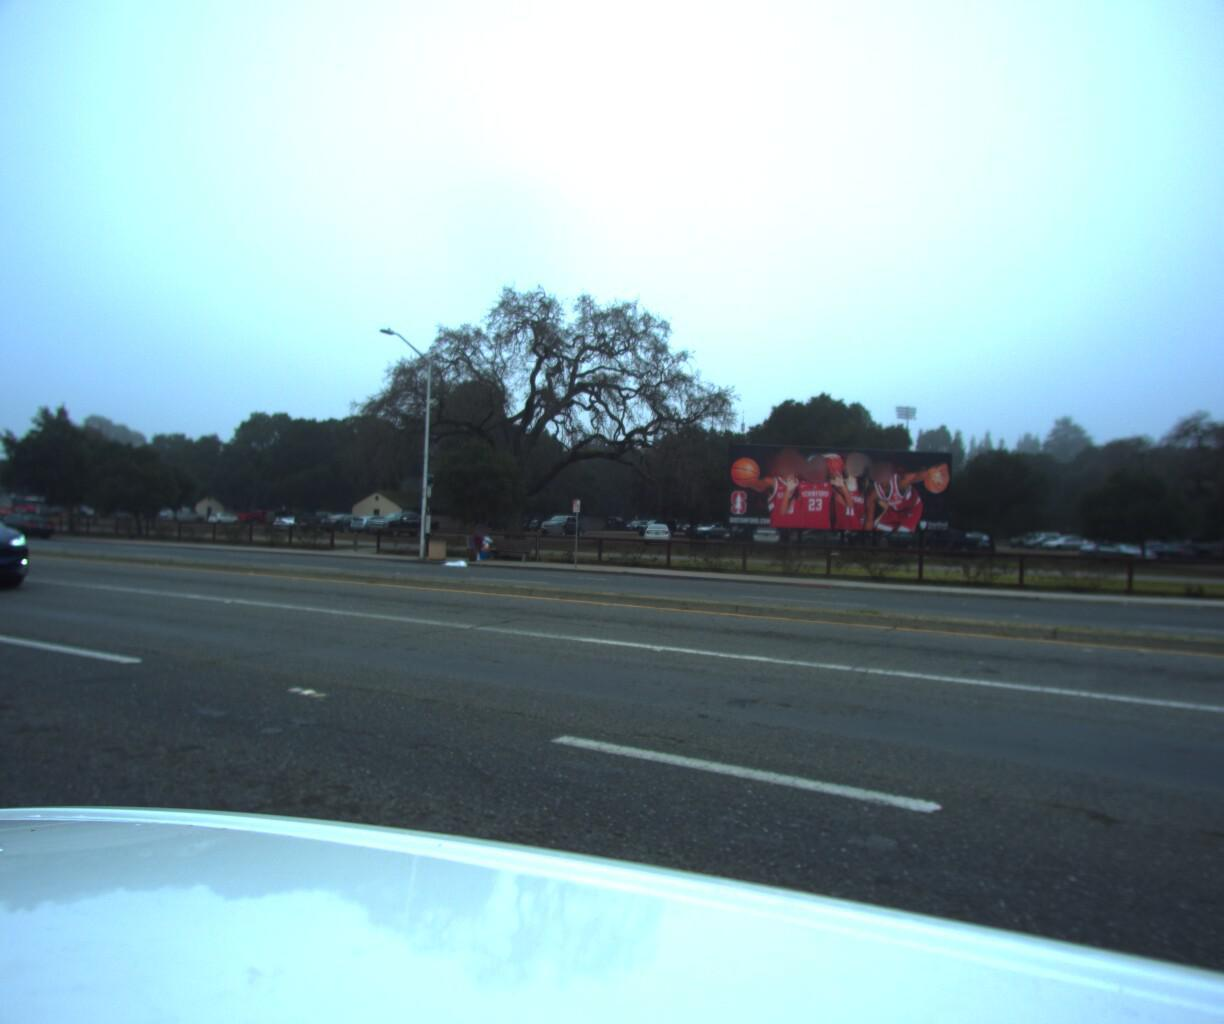car: (0, 474, 52, 598), (0, 507, 61, 541)
